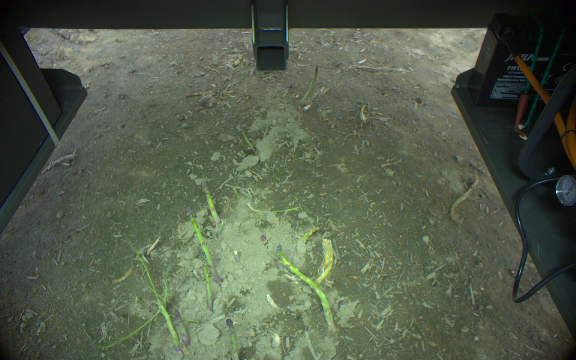aspa: (275, 244, 335, 329), (187, 206, 221, 283), (158, 300, 180, 352), (201, 177, 221, 224), (201, 250, 213, 311), (301, 65, 319, 102), (174, 308, 191, 346), (225, 319, 239, 360), (239, 126, 256, 155), (303, 226, 320, 244), (281, 83, 294, 98)
